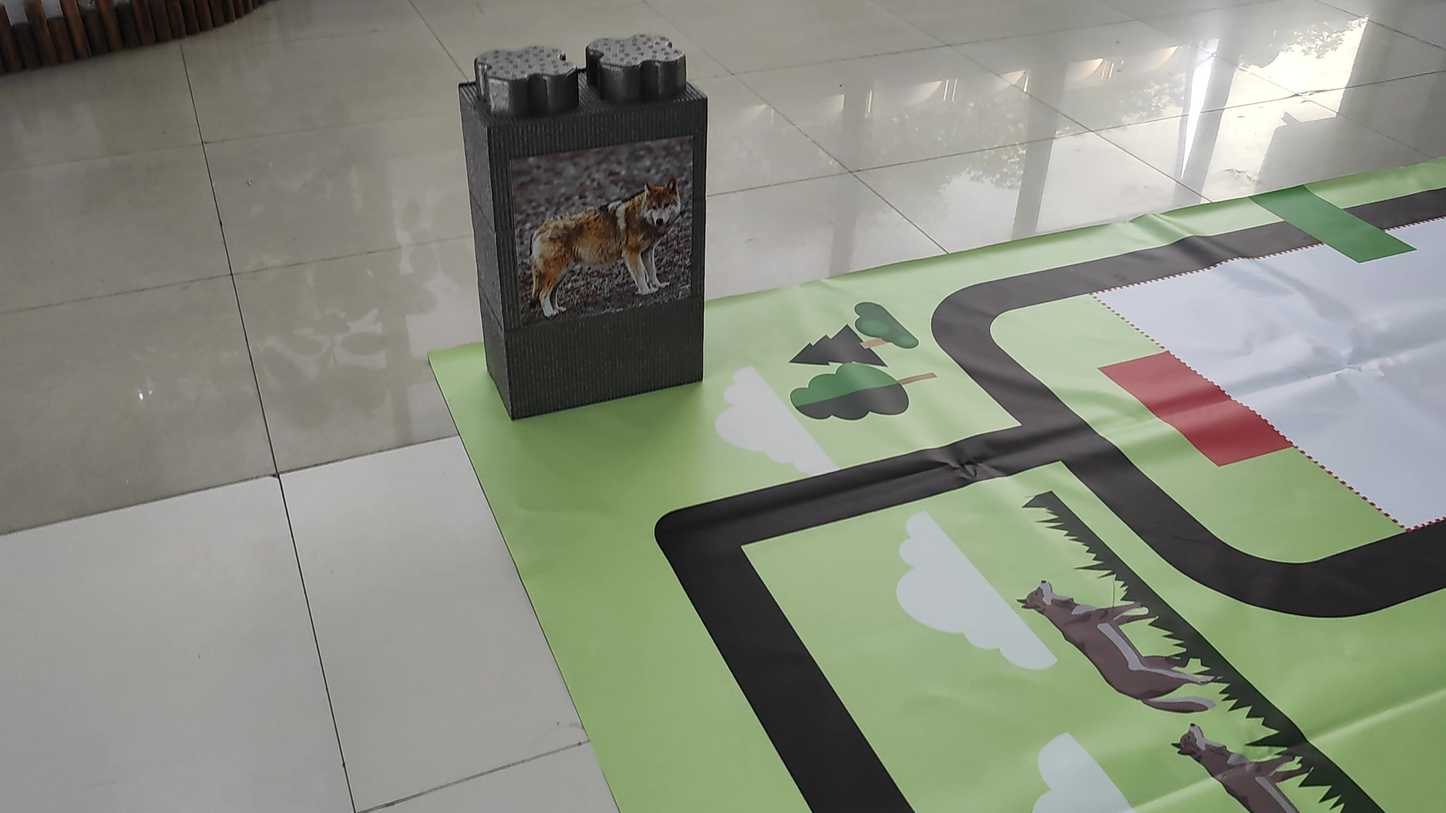wolf: (510, 158, 704, 321)
